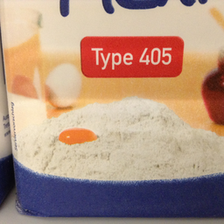flour: (1, 1, 221, 218)
